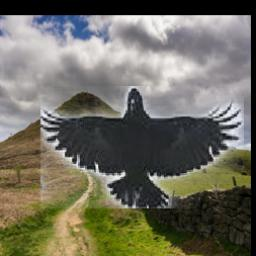Crow: (39, 87, 243, 209)
